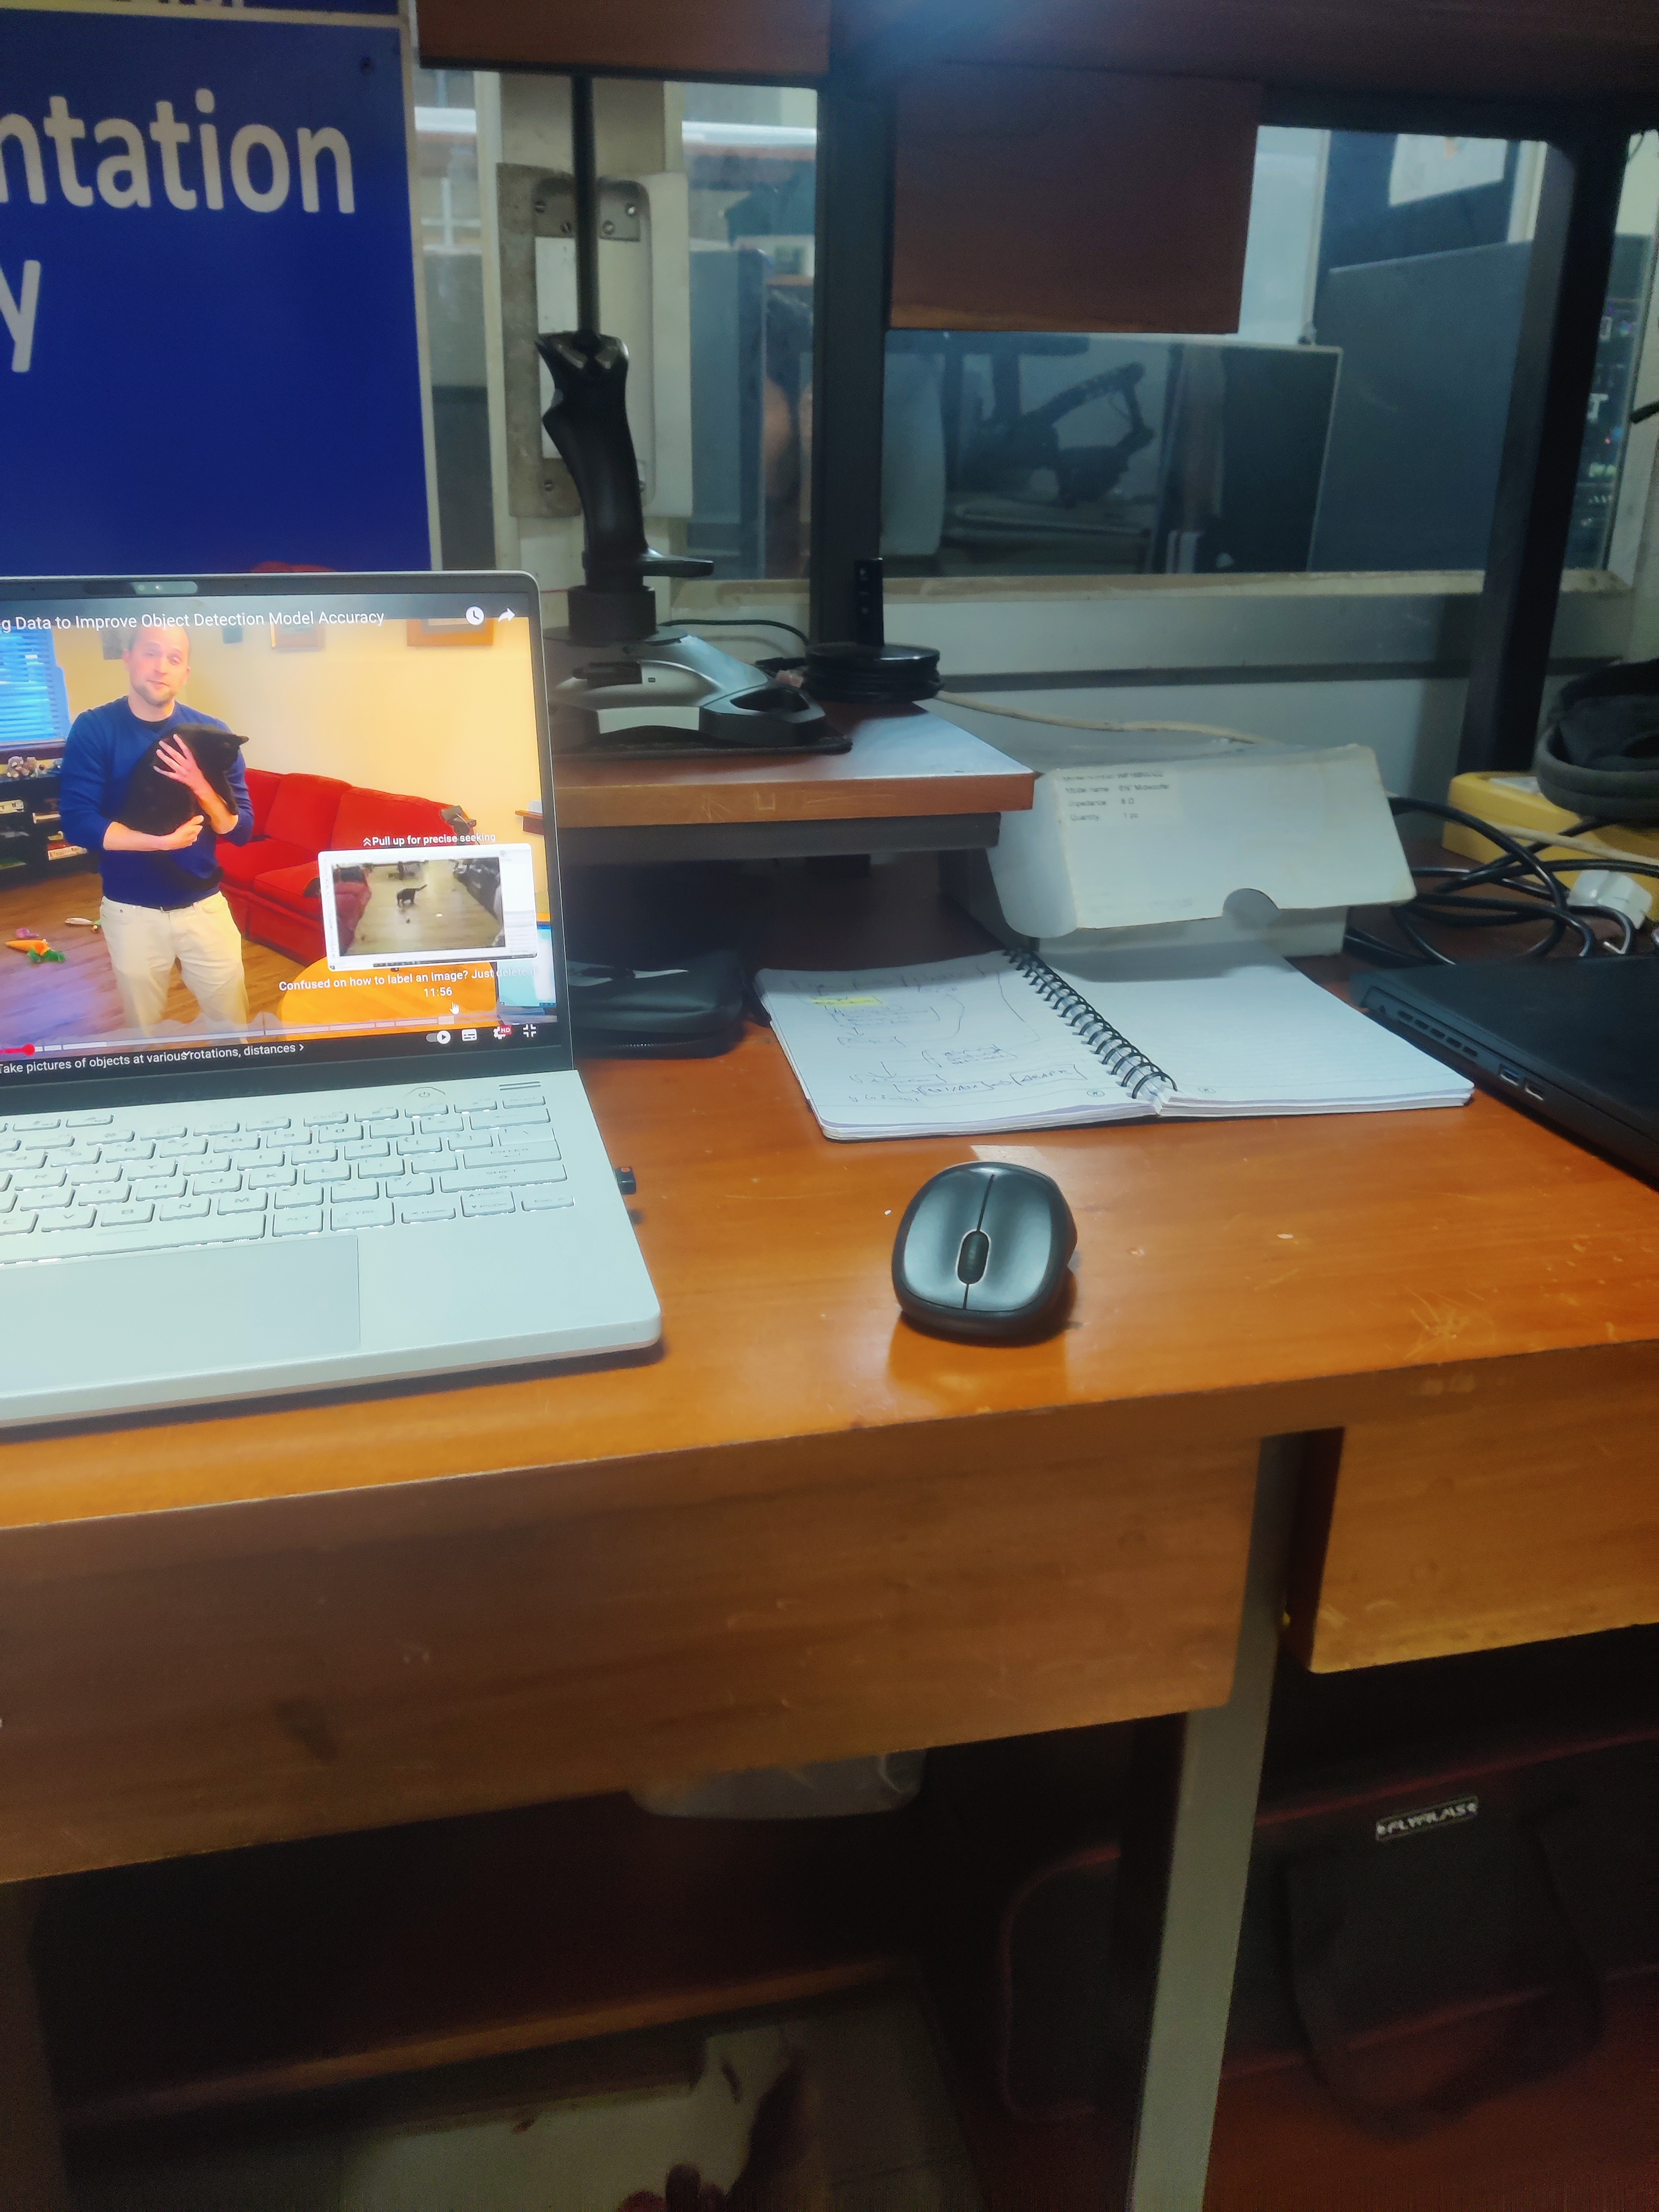logitechMouse: (889, 1157, 1082, 1350)
